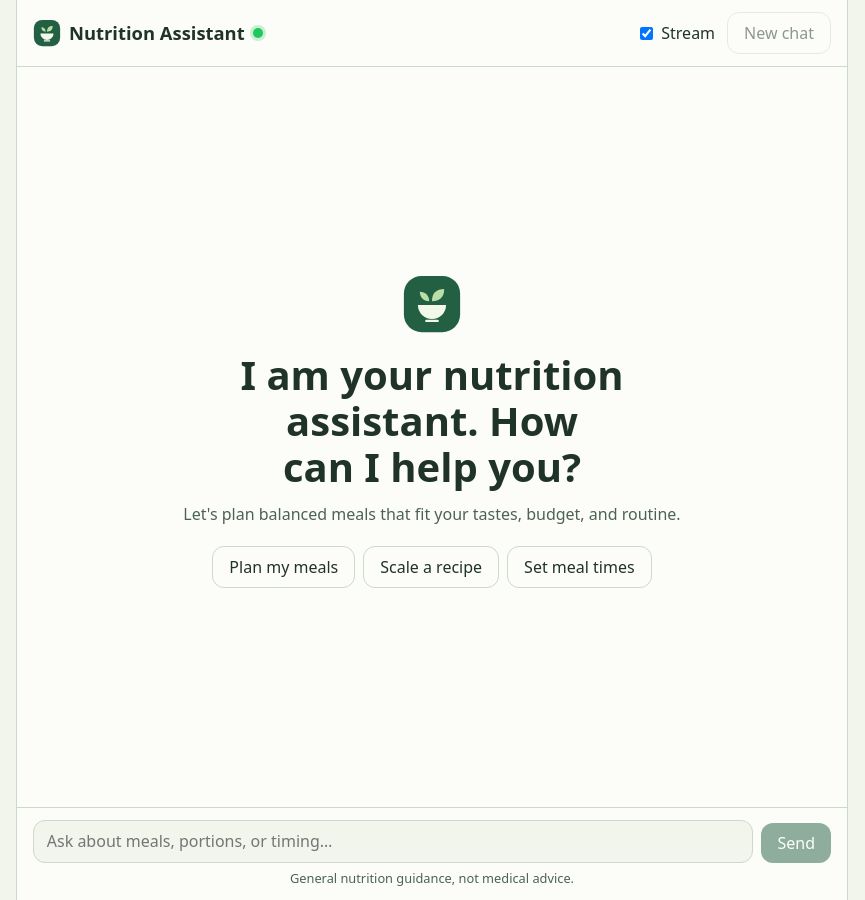
chat › clears the conversation with New chat
Type "Hi" into the text box named "Message".
click(393, 841); type("Hi")  # box [33,820,754,863]
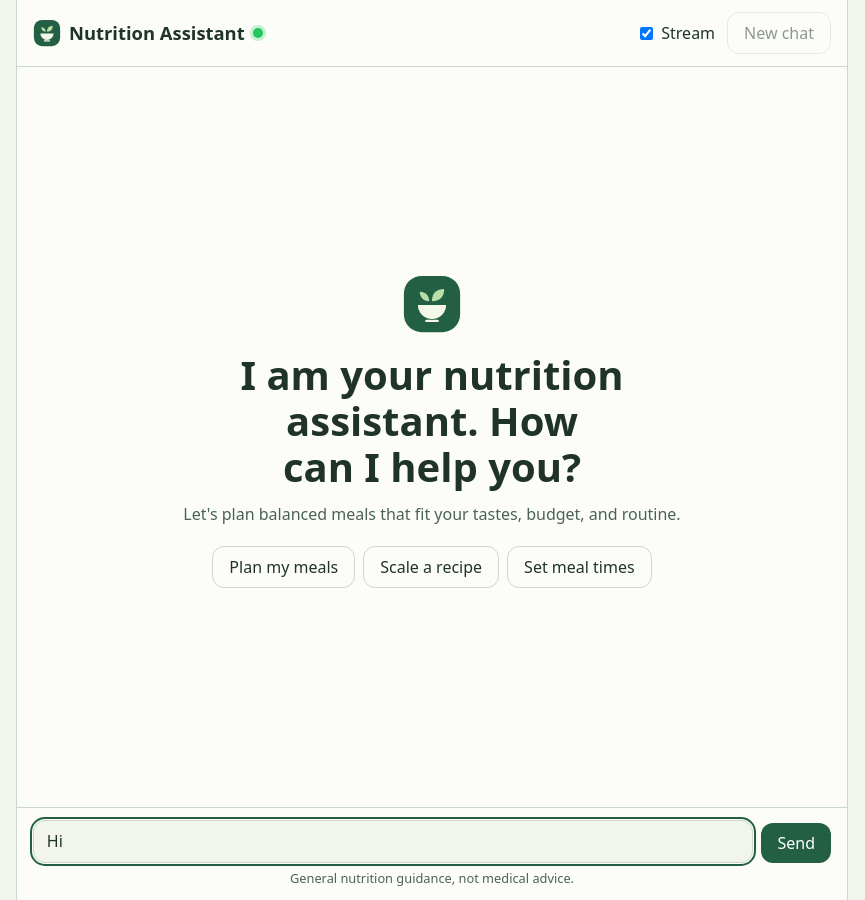
Press Enter
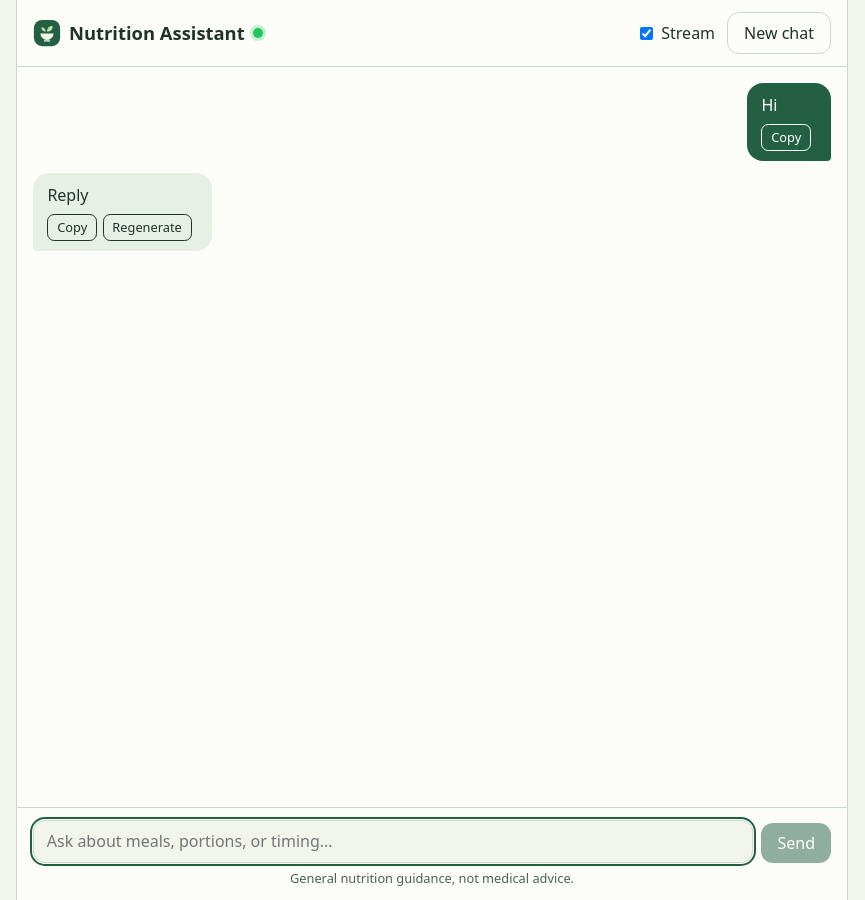
Now the text "Reply" is shown, box [47,184,88,206]
Click the button "New chat".
click(779, 33)  # box [727,12,831,54]
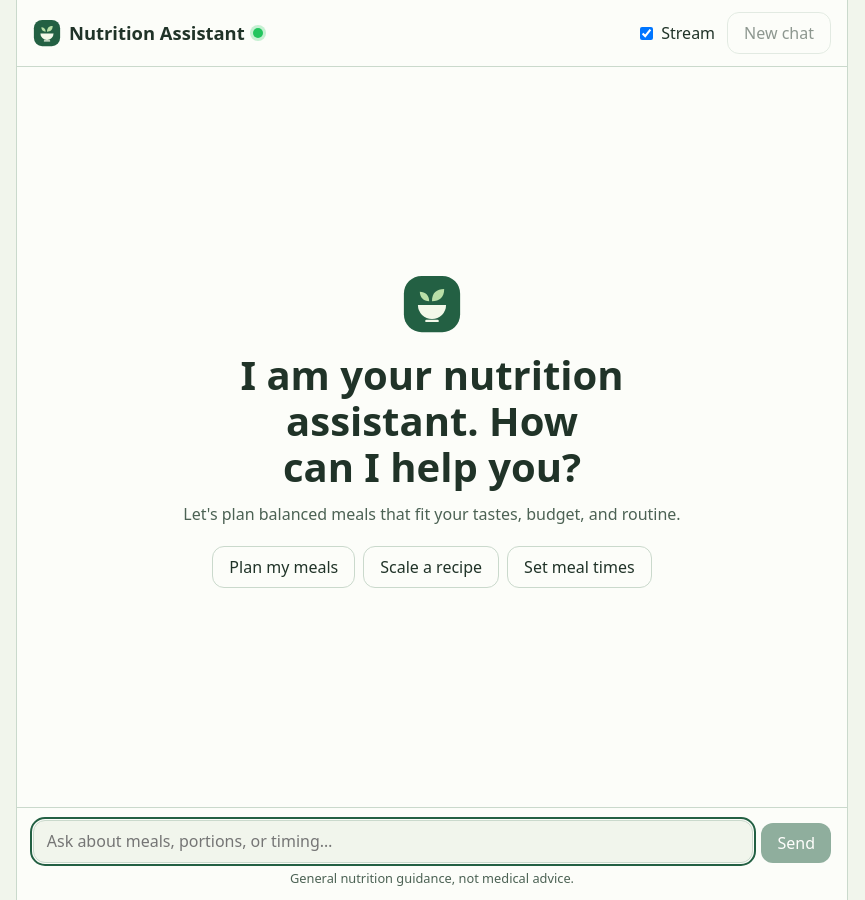
Now the text "Reply" is gone
Now the heading "I am your nutrition assistant. How can I help you?" is shown, box [240,347,624,494]
